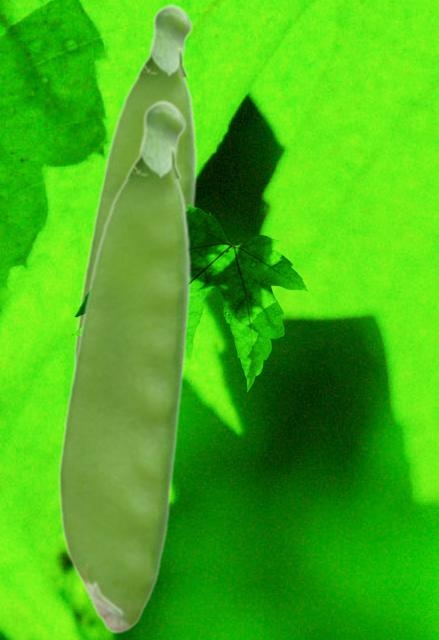pea: (57, 98, 191, 633), (73, 2, 197, 364)
